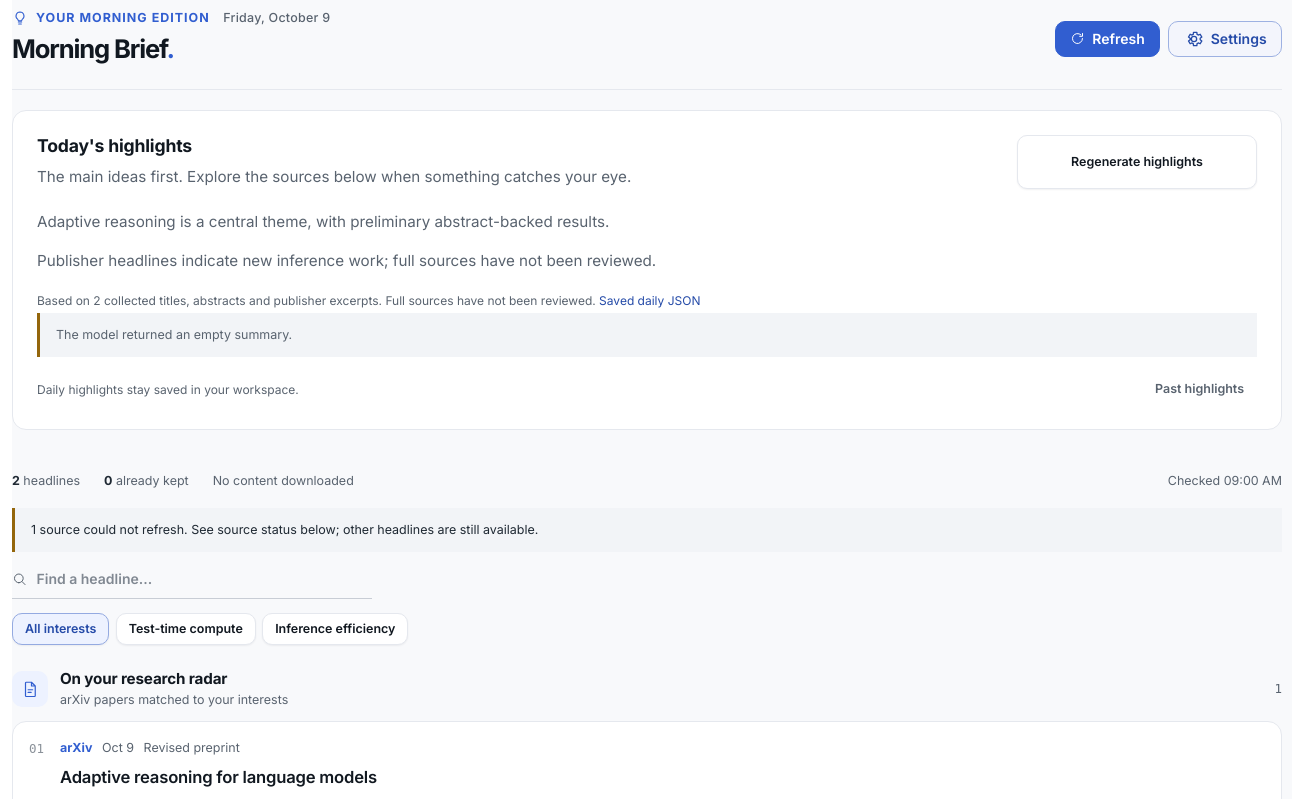
Test case: surfaces failed generation and allows a retry without hiding a previous summary
Check: the message "The model returned an empty summary." is shown, box [37, 313, 1257, 357]
Click the button "Regenerate highlights": (1137, 162) [1017, 135, 1257, 189]
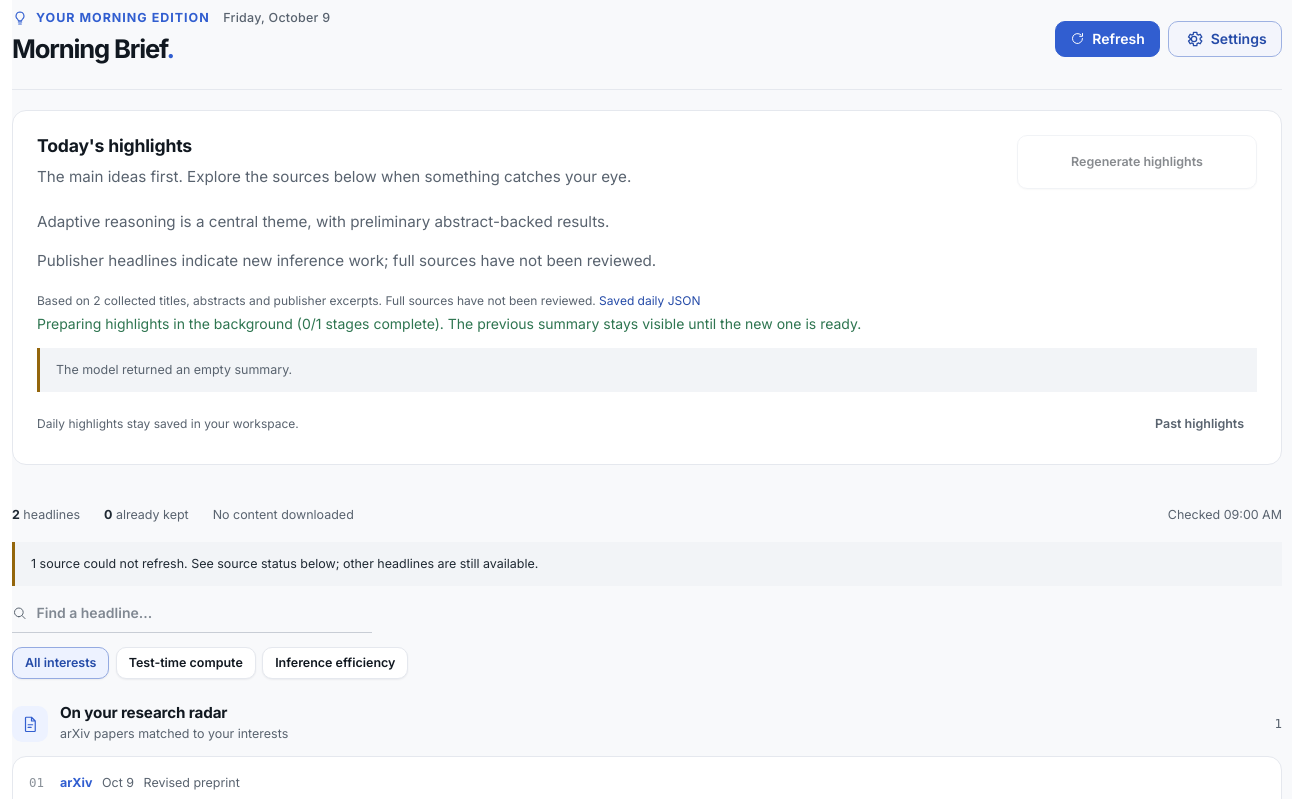
Check: the text "previous summary stays visible" is shown, box [444, 315, 861, 332]
